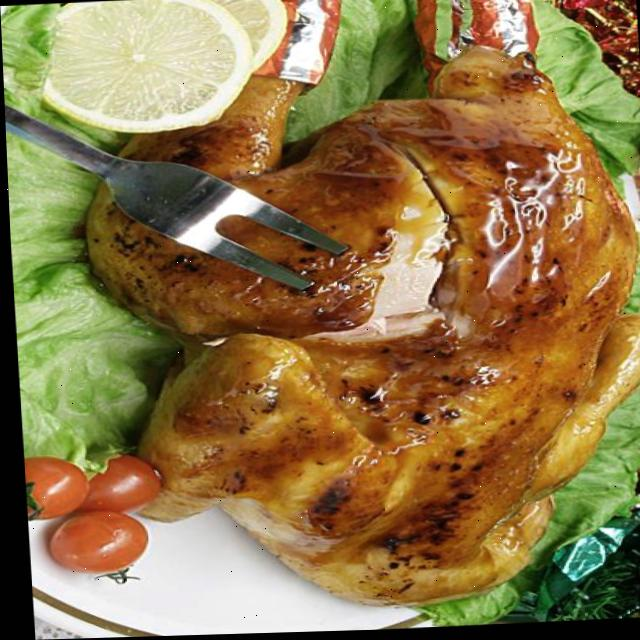鸡肉料理 含炸鸡: (68, 0, 640, 624)
